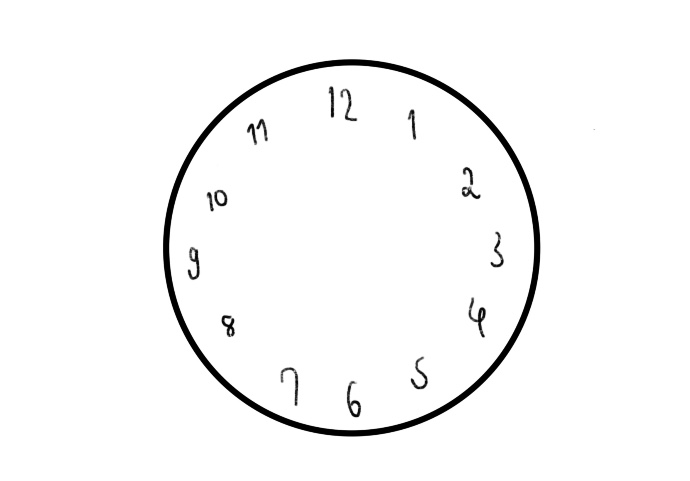eight: (216, 310, 239, 339)
eleven: (244, 117, 274, 147)
five: (411, 357, 432, 391)
four: (466, 294, 492, 340)
nine: (182, 245, 204, 283)
one: (402, 107, 427, 140)
seven: (279, 364, 303, 409)
six: (342, 379, 366, 419)
ten: (205, 186, 229, 212)
three: (490, 227, 507, 274)
twelve: (325, 80, 357, 124)
two: (457, 162, 479, 203)
